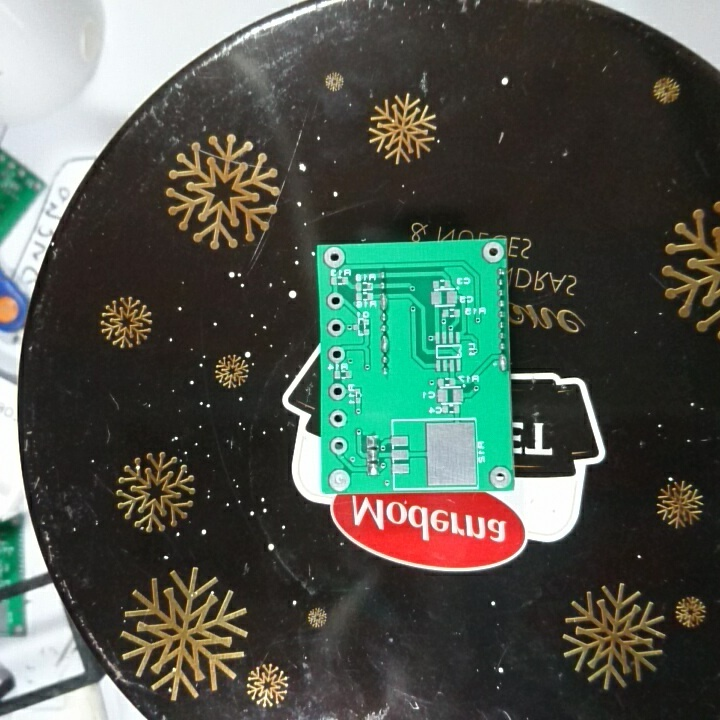F: (326, 466, 351, 492), (320, 245, 347, 269), (487, 464, 511, 490), (481, 240, 505, 266), (327, 433, 349, 456), (328, 406, 349, 429), (325, 316, 346, 338), (325, 290, 345, 312), (325, 344, 346, 364), (327, 380, 345, 401)
P: (377, 291, 390, 314), (379, 332, 392, 355), (497, 353, 509, 375)
